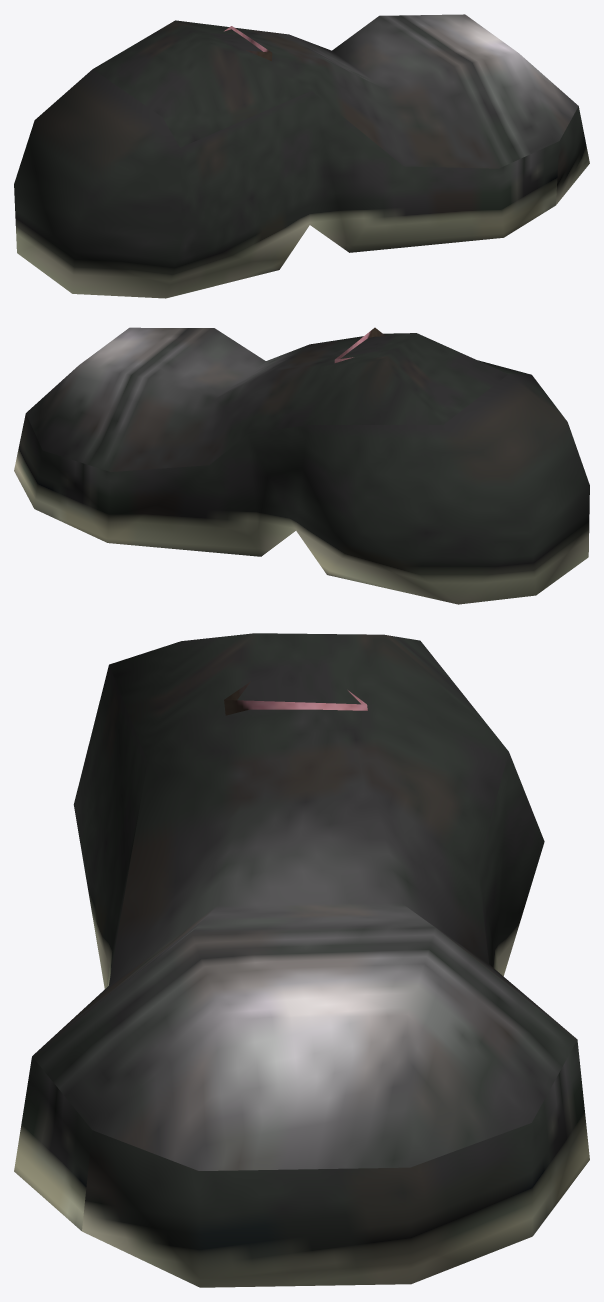
The model's file is Robot01.RightFoot1.fbx.
3 views of the same model, one above another, from view 1: azimuth 30°, elevation 25°; view 2: azimuth 150°, elevation 25°; view 3: azimuth 270°, elevation 25° (orthographic). The views are drawn at different scales.
Parts seen in each view (by area): view 1: Robot.014; view 2: Robot.014; view 3: Robot.014.
Part boxes in pixels (<box>): Robot.014: <box>14,14,589,298</box>; Robot.014: <box>14,327,589,604</box>; Robot.014: <box>14,633,589,1287</box>.
Bounding box in the file's own units: 50.31 × 18.51 × 27.4.
